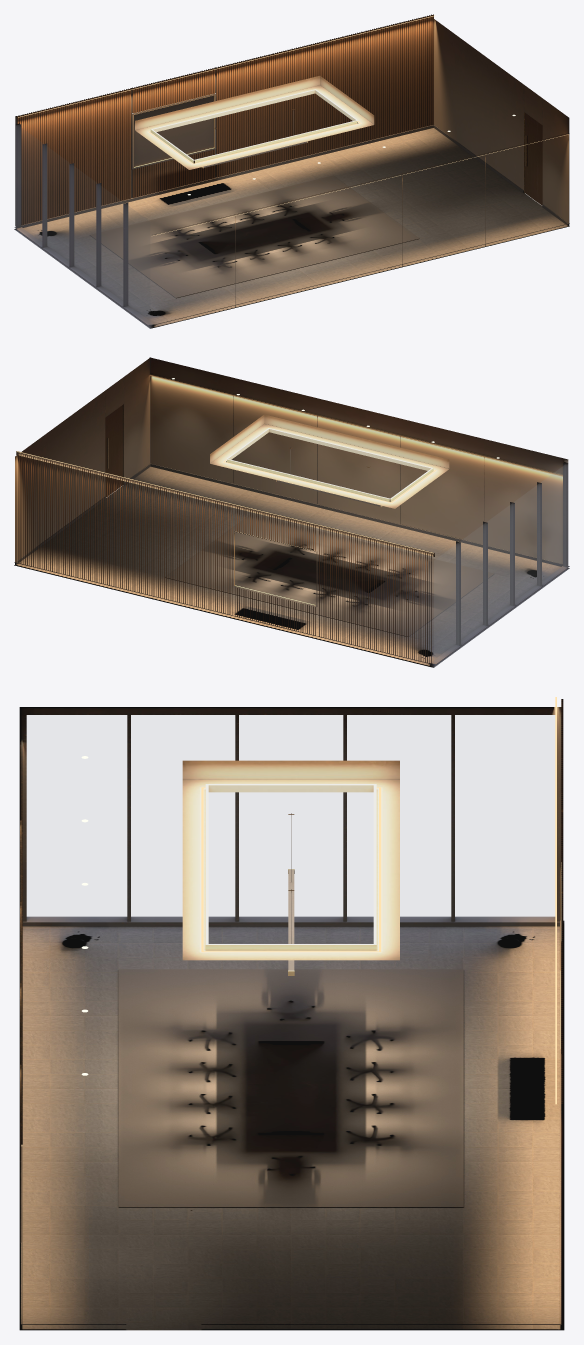
Rendered from room.glb.
3 renders of one model, top to bottom at view 1: azimuth 30°, elevation 25°; view 2: azimuth 150°, elevation 25°; view 3: azimuth 270°, elevation 25°, orthographic. The views are drawn at different scales.
Visible parts, largest first — view 1: Room_Floor, Room_Back, Room_Walls, Glass, Room_Ceiling, Emit_WallWash; view 2: Room_Walls, Room_Floor, Room_Back, Glass, Room_Ceiling, Emit_WallWash; view 3: Room_Floor, Glass, Room_Ceiling, Room_Walls, Room_Back, Emit_Cove, Emit_WallWash.
Part boxes in pixels (x1,y1,x2,y2): Room_Floor: [14, 125, 569, 328]; Room_Back: [15, 14, 433, 226]; Room_Walls: [14, 19, 569, 326]; Glass: [18, 126, 149, 323]; Room_Ceiling: [135, 76, 374, 169]; Emit_WallWash: [18, 15, 434, 117]; Room_Walls: [15, 357, 569, 665]; Room_Floor: [14, 463, 569, 667]; Room_Back: [16, 453, 431, 663]; Glass: [434, 465, 565, 661]; Room_Ceiling: [16, 414, 449, 556]; Emit_WallWash: [17, 451, 433, 553]; Room_Floor: [19, 920, 564, 1330]; Glass: [27, 715, 554, 917]; Room_Ceiling: [182, 760, 399, 975]; Room_Walls: [19, 707, 561, 1242]; Room_Back: [560, 699, 563, 1323]; Emit_Cove: [201, 787, 381, 952]; Emit_WallWash: [555, 697, 556, 1104].
Bounding box in the file's own units: 12.94 × 3.51 × 7.26.
Materials: 10 (4 with a texture image).
